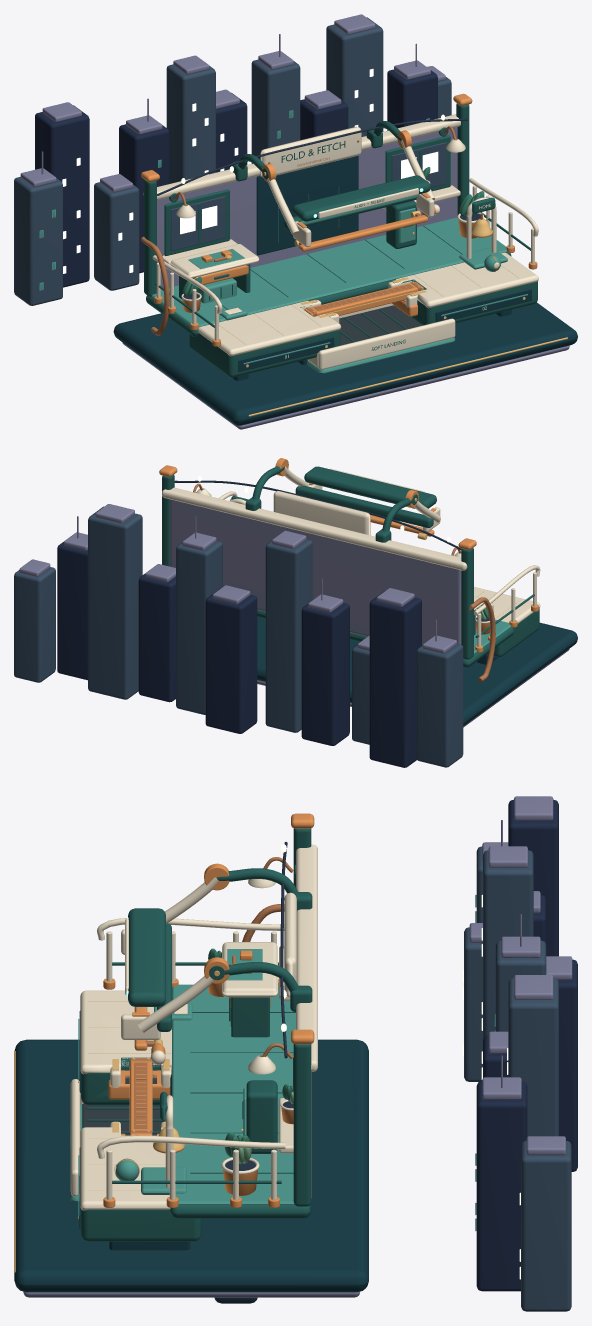
File: workshop-assembled.glb
The picture shows the model from 3 angles, top to bottom: view 1: azimuth 30°, elevation 25°; view 2: azimuth 150°, elevation 25°; view 3: azimuth 270°, elevation 25°; orthographic projection. The views are drawn at different scales.
Parts seen in each view (by area): view 1: distant_city_mesh, rooftop_base_mesh, workshop_frame_mesh, floor_left_mesh, floor_right_mesh, recovery_tray_mesh, upper_chute_mesh, repair_bench_mesh, service_cables_mesh, roof_rails_mesh, exit_bell_mesh, bridge_beam_mesh (+4 smaller); view 2: distant_city_mesh, workshop_frame_mesh, rooftop_base_mesh, upper_chute_mesh, floor_left_mesh, service_cables_mesh, roof_rails_mesh, release_gate_mesh; view 3: rooftop_base_mesh, distant_city_mesh, workshop_frame_mesh, floor_right_mesh, upper_chute_mesh, roof_rails_mesh, floor_left_mesh, repair_bench_mesh, service_cables_mesh, recovery_tray_mesh, planters_mesh, exit_bell_mesh (+3 smaller).
Part boxes in pixels (x1,y1,x2,y2): distant_city_mesh: (14,14,451,305); rooftop_base_mesh: (113,217,577,429); workshop_frame_mesh: (141,93,472,296); floor_left_mesh: (189,300,340,380); floor_right_mesh: (396,252,538,325); recovery_tray_mesh: (306,303,455,373); upper_chute_mesh: (262,130,434,247); repair_bench_mesh: (170,244,258,303); service_cables_mesh: (141,114,467,335); roof_rails_mesh: (152,178,538,346); exit_bell_mesh: (459,197,507,269); bridge_beam_mesh: (304,281,423,316); distant_city_mesh: (14,504,463,767); workshop_frame_mesh: (159,465,476,659); rooftop_base_mesh: (257,610,577,727); upper_chute_mesh: (275,458,440,531); floor_left_mesh: (474,587,540,664); service_cables_mesh: (174,476,495,682); roof_rails_mesh: (219,491,540,652); release_gate_mesh: (370,514,434,539); rooftop_base_mesh: (14,984,368,1303); distant_city_mesh: (462,796,577,1311); workshop_frame_mesh: (217,813,317,1206); floor_right_mesh: (78,1127,201,1250); upper_chute_mesh: (121,863,229,1039); roof_rails_mesh: (97,918,285,1207); floor_left_mesh: (78,990,171,1105); repair_bench_mesh: (222,942,277,1037); service_cables_mesh: (241,842,287,1153); recovery_tray_mesh: (70,1079,165,1201); planters_mesh: (208,948,293,1195); exit_bell_mesh: (141,1092,186,1194).
Bounding box in the file's own units: 11.31 × 5.6 × 8.91.
